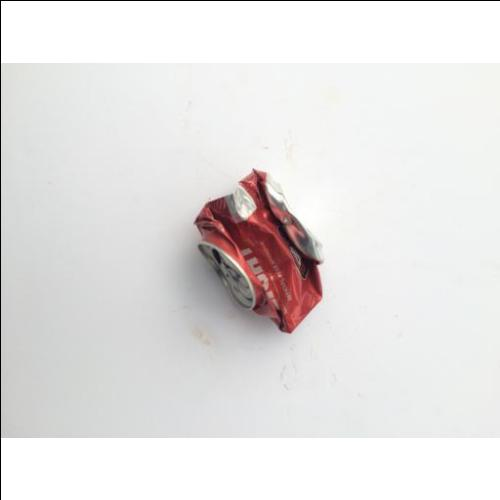metal: (200, 164, 325, 335)
